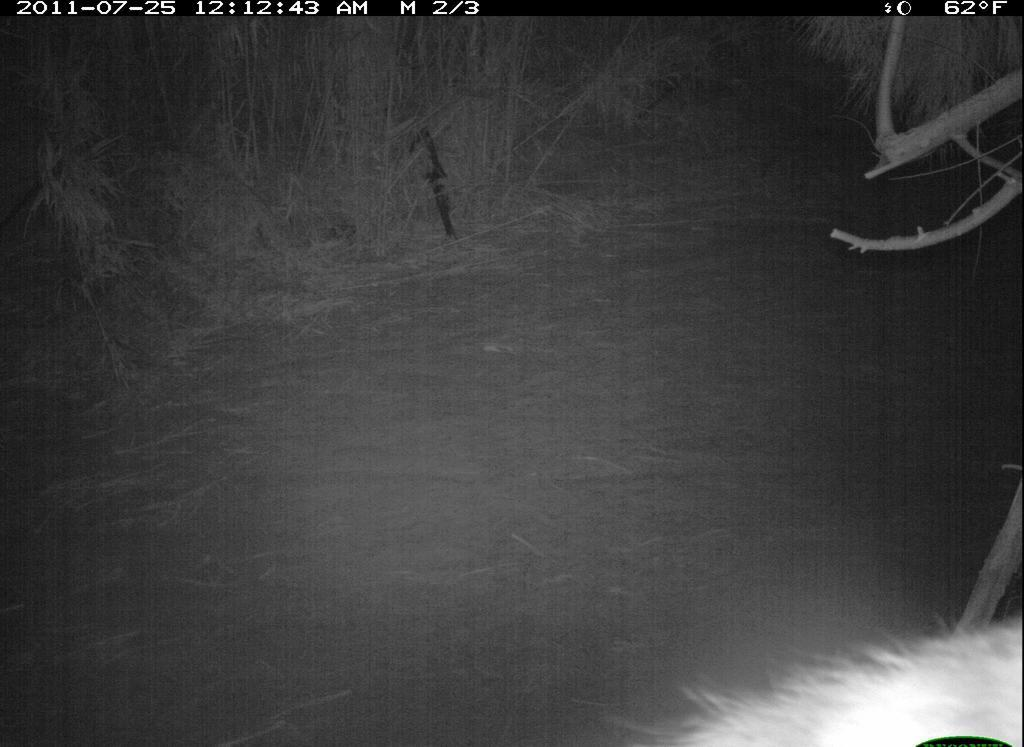raccoon: (679, 616, 1023, 743)
